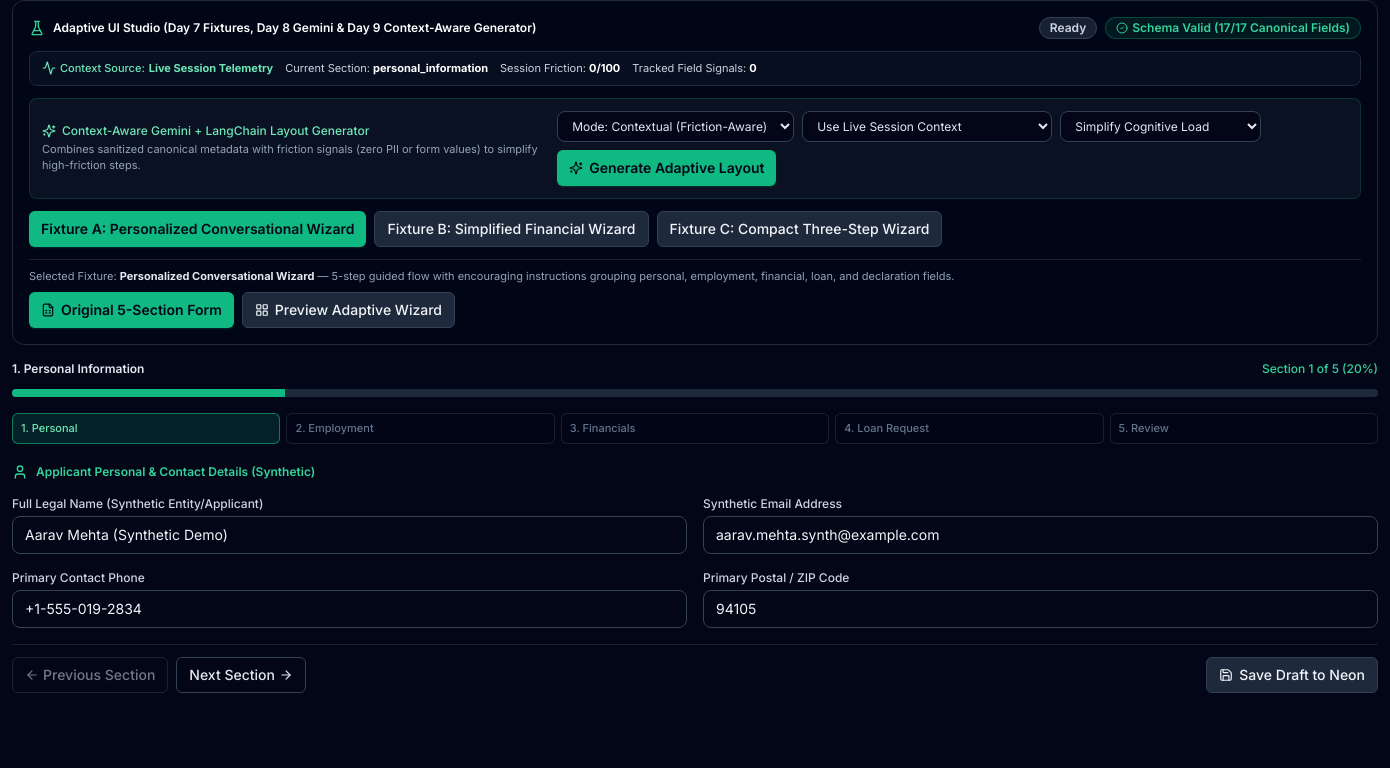
Test case: Day 8 & 9: Frontend Adaptive UI Studio & Contextual Generation Integration › safely rejects failed AI generation and keeps the original form untouched
The image size is (1390, 768).
Click the button with test id "generate-adaptive-layout-btn". click: (667, 168)
box: x1=557 y1=150 x2=776 y2=186
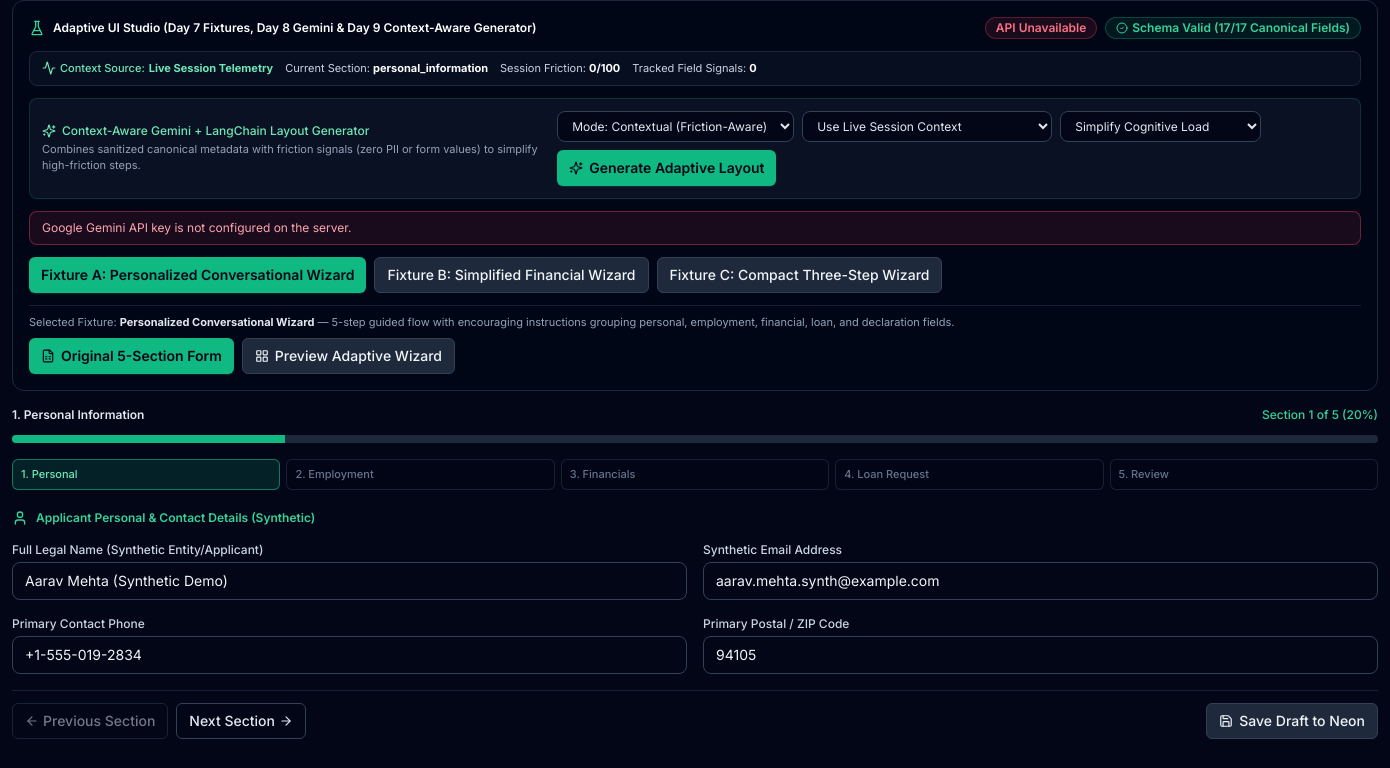
Expected: the field labelled "Full Legal Name (Synthetic Entity/Applicant)" is shown, x1=12 y1=562 x2=687 y2=600
Expected: the text with test id "ai-generation-status-badge" reads "API Unavailable", x1=996 y1=20 x2=1086 y2=35
